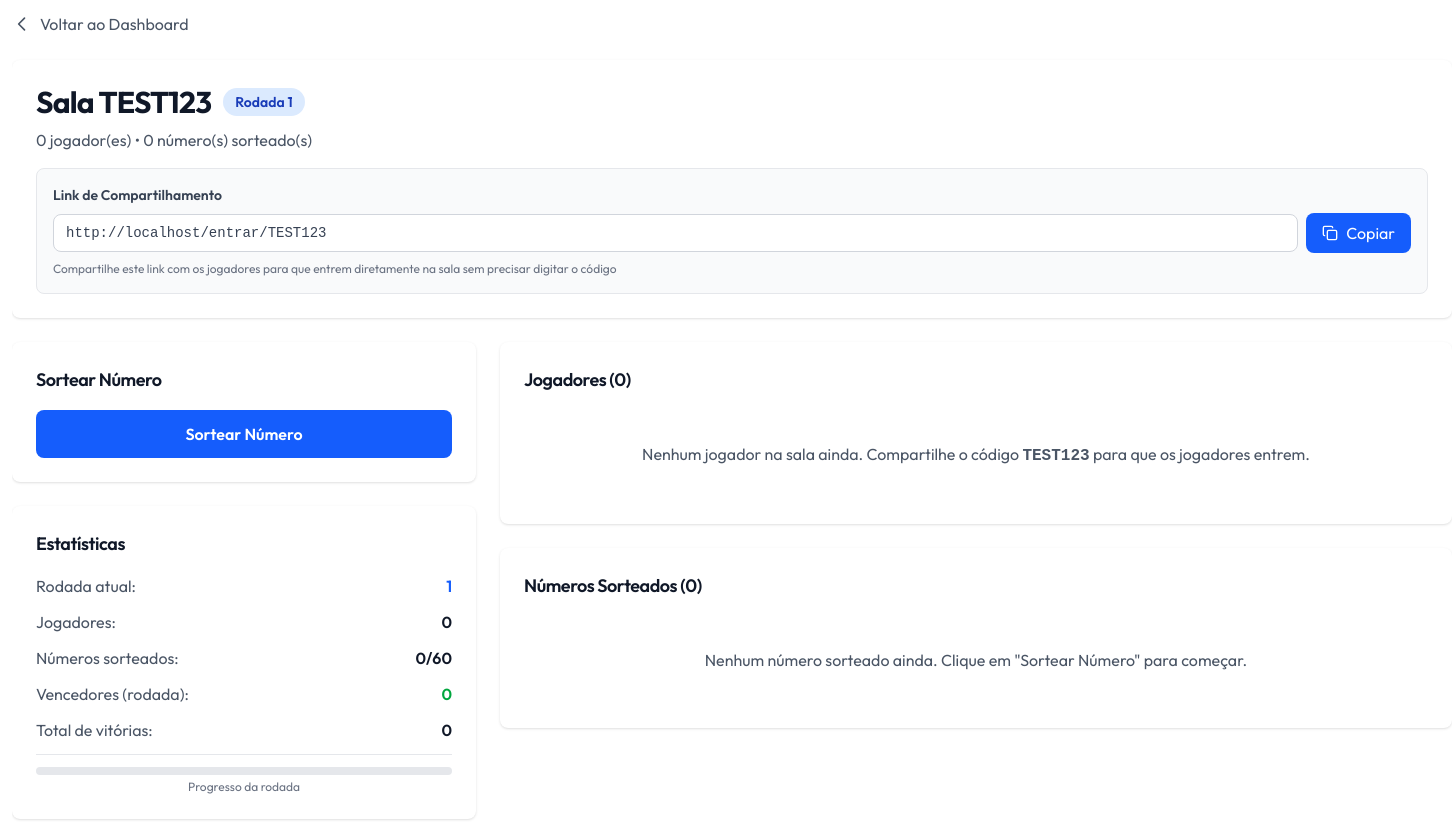
AdminRoomPage › Number Drawing › should show loading state while drawing
Click the button "Sortear Número" at (244, 434), box [36,410,452,458]
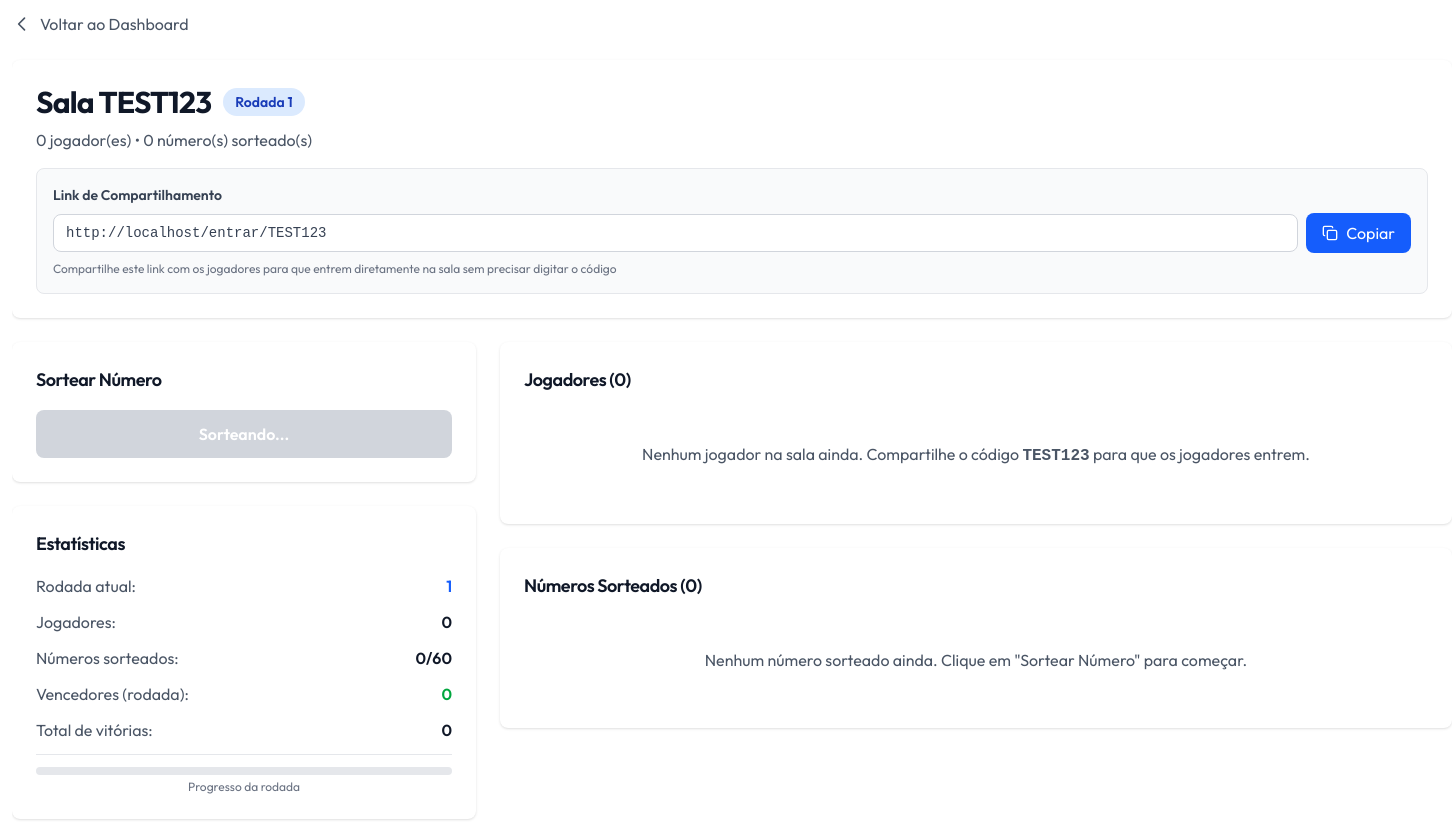
Check: the button "Sorteando..." is disabled, box [36,410,452,458]
